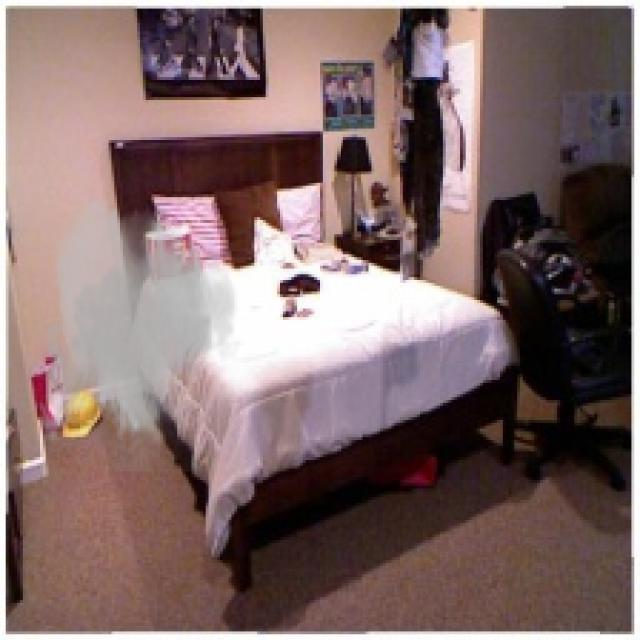Smoke: (31, 192, 243, 472)
